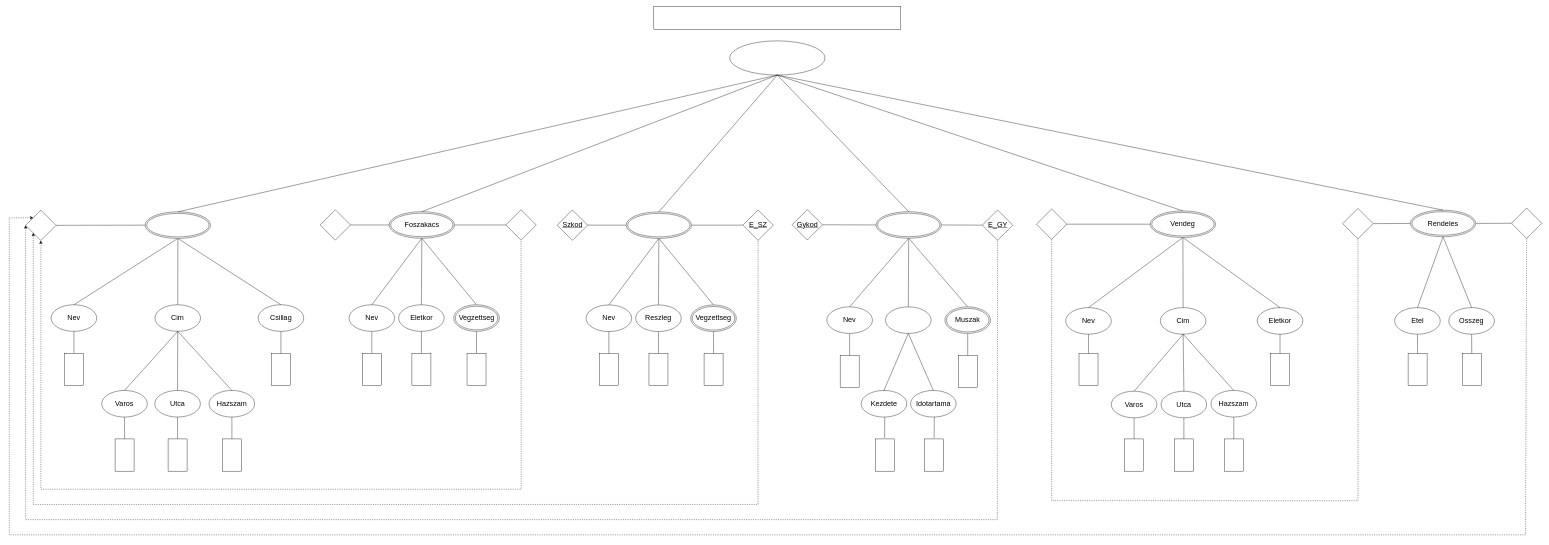
Image size: 1549x545. Some labels were removed from this diagram. The shapes that lost their labels are listed below. From the top down, each one's centre as x and y in pixels, then its label:
the point at 777,17: Webkönyvtárak - THE_00751_L_ 3_G - 2025.04.25 - Második e.
the point at 777,57: JB3BMA_vendeglatas
the point at 40,225: Ekod
the point at 178,224: Etterem
the point at 335,224: Fkod
the point at 520,224: E_F
the point at 659,224: Szakacs
the point at 908,224: Gyakornok
the point at 1051,224: Vkod
the point at 1357,223: E_V_V
the point at 1526,223: E_V_E
the point at 908,319: Gyakorlat
